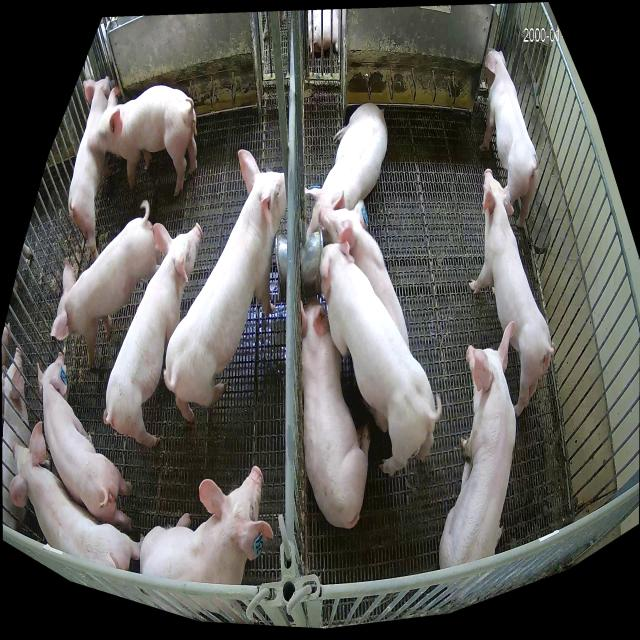pig: (164, 150, 287, 424), (321, 230, 435, 474), (104, 222, 203, 447), (468, 169, 552, 416), (10, 421, 139, 571), (440, 321, 516, 569), (50, 203, 159, 368), (37, 353, 132, 530), (300, 298, 372, 528), (140, 465, 273, 584), (318, 200, 410, 349), (89, 84, 196, 198), (304, 103, 387, 238), (479, 47, 538, 229), (68, 76, 115, 262)
